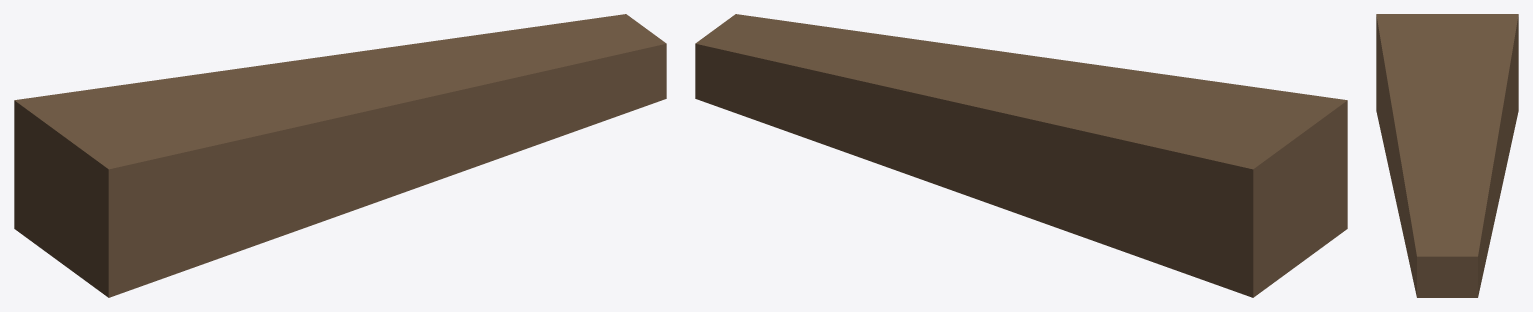
Rendered from Trireme_Hull.fbx.
The picture shows the model from 3 angles, left to right: view 1: azimuth 30°, elevation 25°; view 2: azimuth 150°, elevation 25°; view 3: azimuth 270°, elevation 25°; orthographic projection. The views are drawn at different scales.
Visible parts, largest first — view 1: Trireme_Hull; view 2: Trireme_Hull; view 3: Trireme_Hull.
Part boxes in pixels (x1,y1,x2,y2): Trireme_Hull: (14, 14, 666, 297); Trireme_Hull: (695, 14, 1347, 297); Trireme_Hull: (1376, 14, 1518, 297).
Size of the model in its own units: 10 by 2.1 by 2.8.
